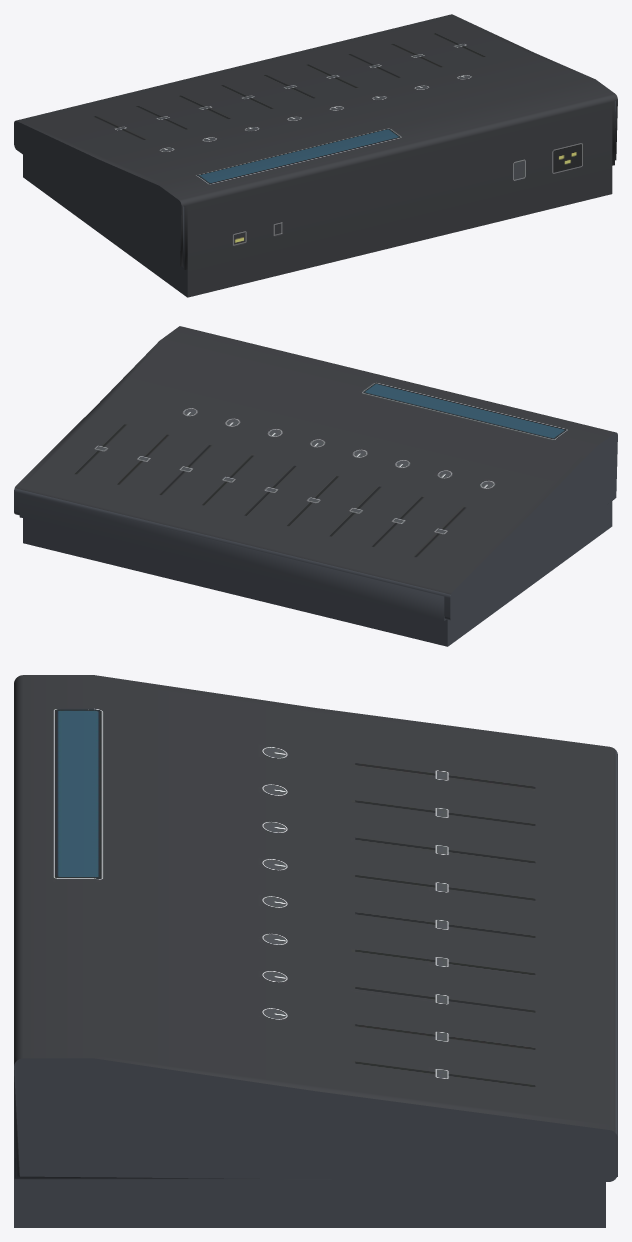
The model's file is behringer-x-touch-universal.glb.
The picture shows the model from 3 angles, top to bottom: view 1: azimuth 30°, elevation 25°; view 2: azimuth 150°, elevation 25°; view 3: azimuth 270°, elevation 25°; orthographic projection. The views are drawn at different scales.
Parts seen in each view (by area): view 1: behringer-x-touch-universal-body; view 2: behringer-x-touch-universal-body; view 3: behringer-x-touch-universal-body.
Part boxes in pixels (bbox=[...]): behringer-x-touch-universal-body: bbox=[14, 14, 617, 297]; behringer-x-touch-universal-body: bbox=[14, 326, 617, 646]; behringer-x-touch-universal-body: bbox=[14, 675, 617, 1227].
Bounding box in the file's own units: 0.452 × 0.1 × 0.301.
1 material, 1 textured.
